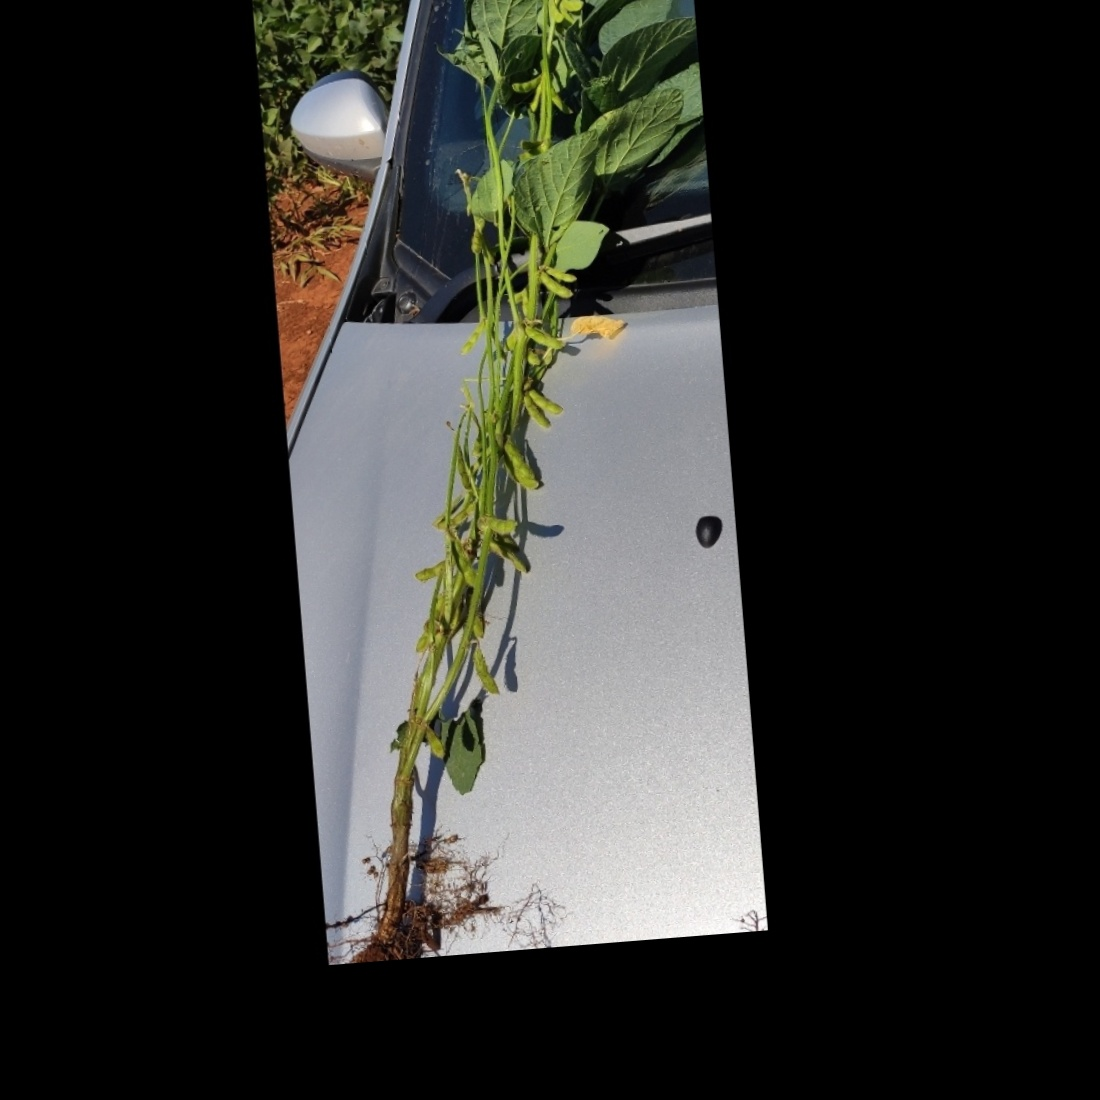pod: (454, 318, 496, 361), (468, 644, 499, 700), (532, 266, 575, 304), (523, 384, 565, 419), (520, 388, 551, 434), (524, 322, 564, 352), (540, 261, 580, 289), (504, 72, 549, 96), (410, 557, 446, 582), (540, 0, 566, 24)
soy: (251, 0, 744, 988)
